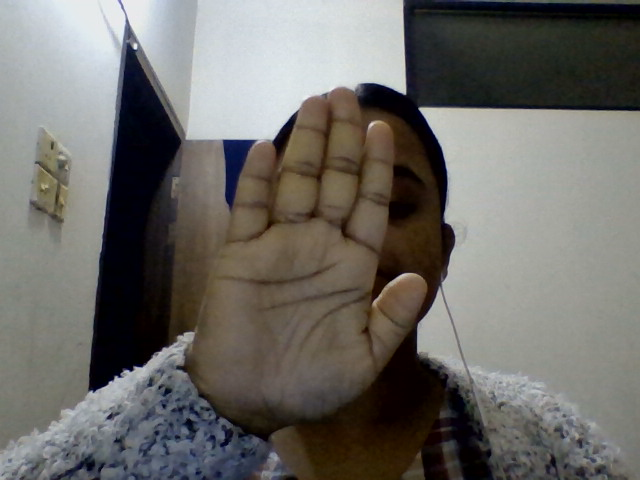hello: (198, 75, 435, 435)
